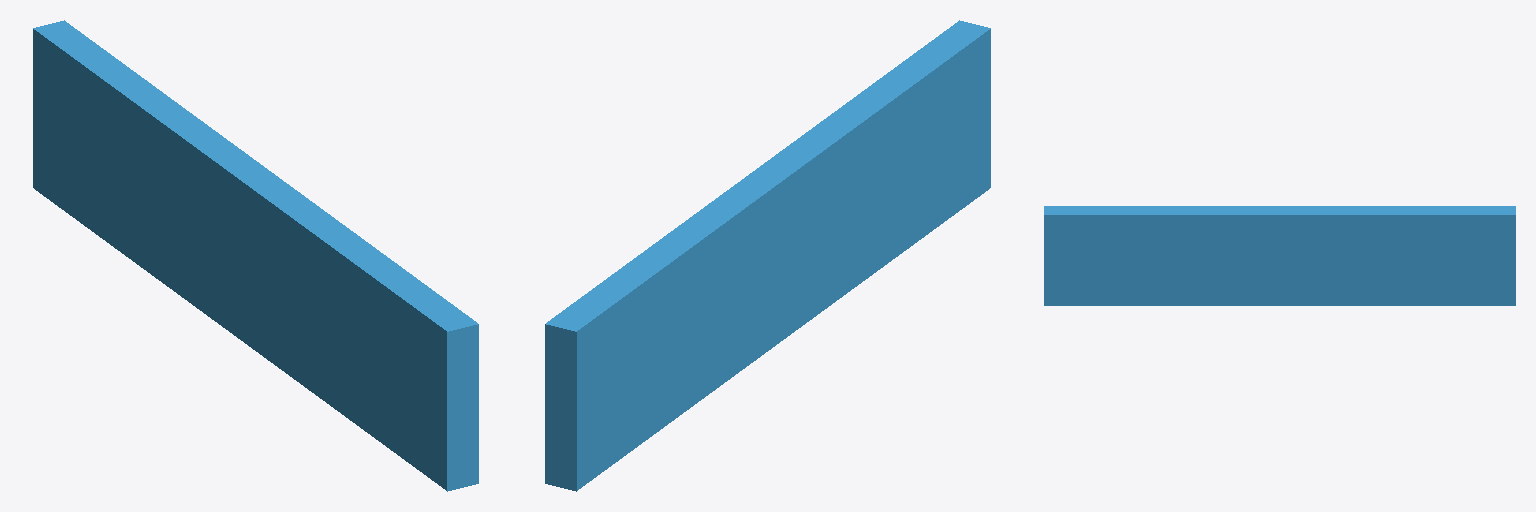
robot.urdf — box_92:
<?xml version="1.0" encoding="utf-8"?>    
    
    <robot name="box_92">
        <link name="box_92">    
            <fem>
                <origin rpy="0.0 0.0 0.0" xyz="0 0 0" />
                <density value="100" />
                <youngs value="1048"/>
                <poissons value="0.3"/>
                <damping value="0.0" /> 
                <attachDistance value="0.01"/>
                <tetmesh filename="../../../../Custom_mesh/physical_dvrk/multi_box_1kPa/box_92.tet"/>
                <scale value="1.0"/>
            </fem>
        </link>
        
        <link name="fix_frame">
            <visual>
                <origin xyz="-10.096 0.0 0.0"/>              
                <geometry>
                    <box size="0.005 0.113 0.024"/>
                </geometry>
            </visual>
            <collision>
                <origin xyz="-0.096 0.0 0.0"/>              
                <geometry>
                    <box size="0.005 0.113 0.024"/>
                </geometry>
            </collision>
            <inertial>
                <mass value="500000"/>
                <inertia ixx="0.05" ixy="0.0" ixz="0.0" iyy="0.05" iyz="0.0" izz="0.05"/>
            </inertial>
        </link>
        
        <joint name = "attach" type = "fixed">
            <origin xyz = "0.0 0.0 0.0" rpy = "0 0 0"/>
            <parent link = "box_92"/>
            <child link = "fix_frame"/>
        </joint>  
        
    </robot>
    

--- What the picture shows (computed from the rendered views, not written in the file) ---
The picture shows the robot from 3 angles, left to right: view 1: azimuth 30°, elevation 25°; view 2: azimuth 150°, elevation 25°; view 3: azimuth 270°, elevation 25°; orthographic projection.
Robot: box_92 — 2 links, 1 joints (1 fixed); root link box_92; default pose: every joint at zero.
Visible links, largest first — view 1: fix_frame; view 2: fix_frame; view 3: fix_frame.
Link boxes in pixels (left/top/right/bottom): fix_frame: left=33, top=20, right=478, bottom=491; fix_frame: left=545, top=20, right=990, bottom=491; fix_frame: left=1044, top=206, right=1515, bottom=305.
Size in the robot's own frame: 0.005 by 0.113 by 0.024 metres.
Geometry: primitives only (box / cylinder / sphere), no mesh files.